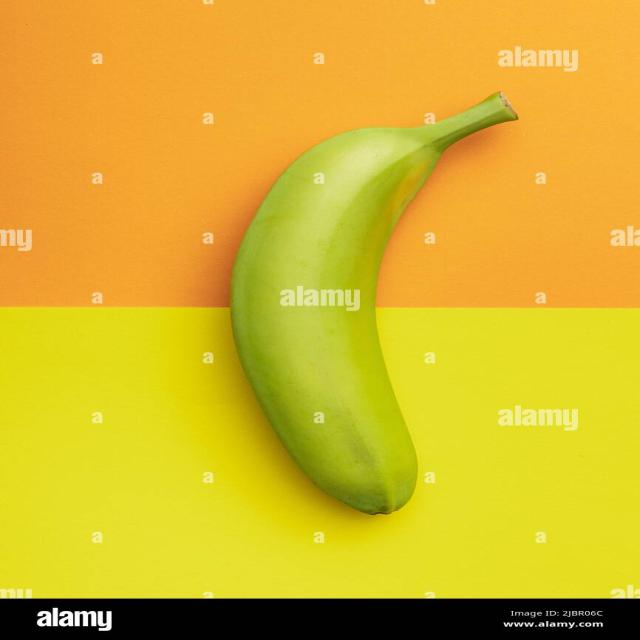non_orange: (222, 88, 522, 516)
